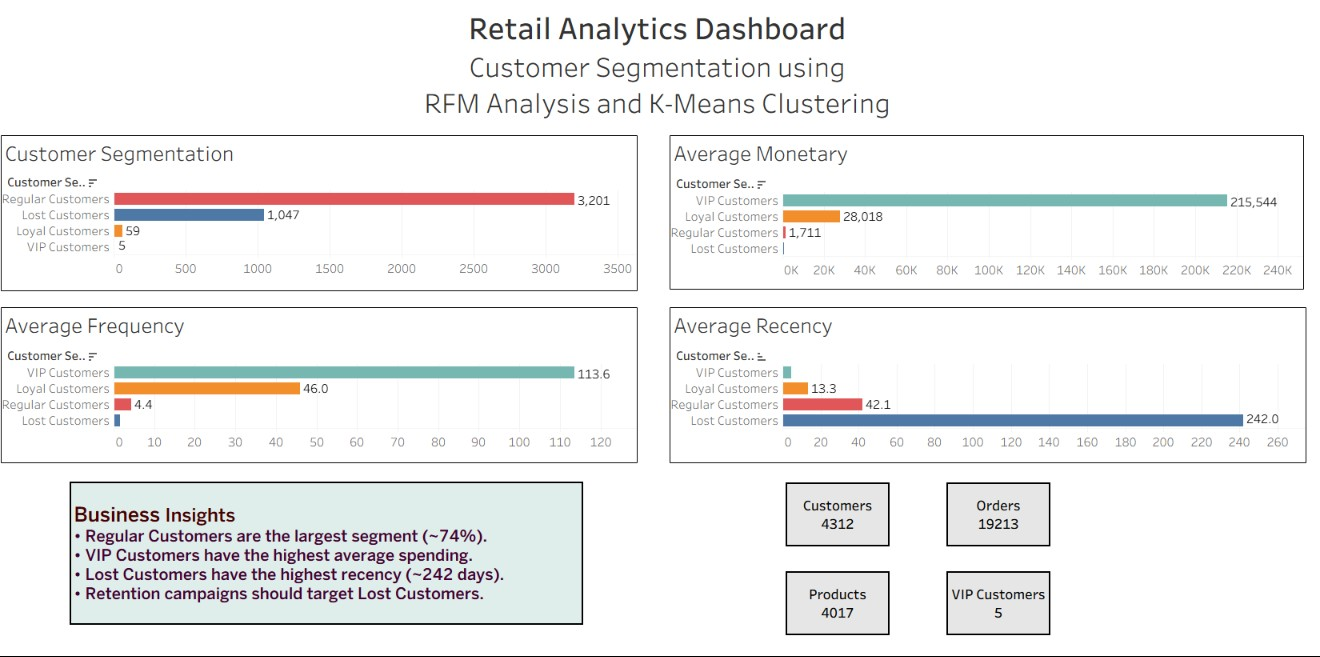

Layout of this report page (visuals, bound fields, positions):
{"tool":"tableau","page":{"name":"Dashboard 1","canvas":[1000,1000],"units":"permille","ordinal":0},"visuals":[{"type":"title","box":[4.8,9.5,990.3,178.5]},{"type":"worksheet","title":"Customer Segmentation","mark":"Automatic","rows":["Customer_Segment"],"cols":["Customer ID"],"box":[4.8,203.3,480.4,230.5]},{"type":"worksheet","title":"Average Monetary","mark":"Automatic","rows":["Customer_Segment"],"cols":["Monetary"],"box":[509.4,203.3,478.6,228.1]},{"type":"worksheet","title":"Average Frequency","mark":"Automatic","rows":["Customer_Segment"],"cols":["Frequency"],"box":[4.8,457.4,480.4,230.5]},{"type":"worksheet","title":"Average Recency","mark":"Automatic","rows":["Customer_Segment"],"cols":["Recency"],"box":[509.4,457.4,480.4,230.5]},{"type":"text","box":[56.7,715.1,387.4,211.6]},{"type":"text","box":[596.9,716.3,78.5,94.6]},{"type":"text","box":[718.2,716.3,78.5,94.6]},{"type":"text","box":[596.9,847.5,78.5,94.6]},{"type":"text","box":[718.2,847.5,78.5,94.6]}]}

Visuals, with their boxes on the dashboard's canvas, which has no fixed pixel size, in thousandths of its width and height (x1, y1, x2, y2). These are canvas units, not pixel positions in the 1320x657 screenshot, which may show the page scaled, cropped or inside an application window:
title: 5:10:995:188
"Customer Segmentation" worksheet: 5:203:485:434
"Average Monetary" worksheet: 509:203:988:431
"Average Frequency" worksheet: 5:457:485:688
"Average Recency" worksheet: 509:457:990:688
text: 57:715:444:927
text: 597:716:675:811
text: 718:716:797:811
text: 597:848:675:942
text: 718:848:797:942
